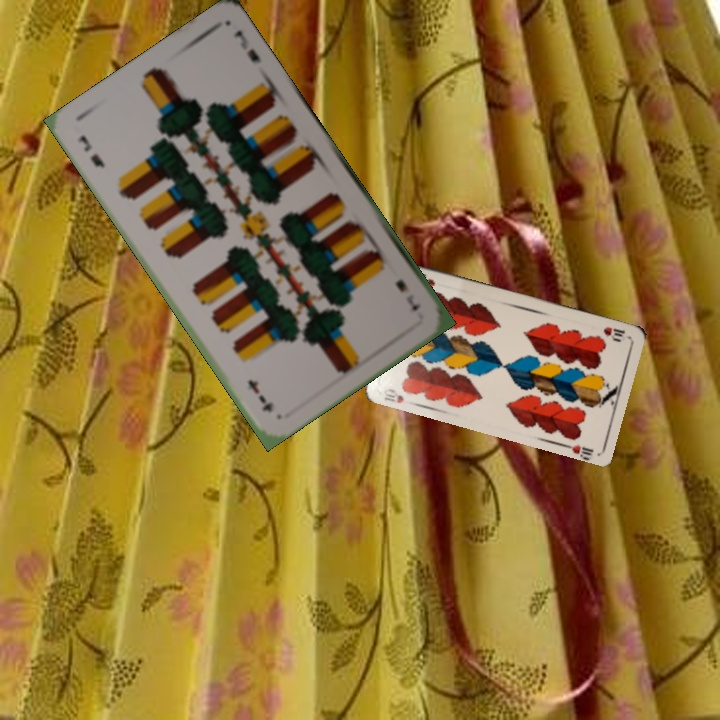E7: (74, 131, 108, 171), (391, 275, 423, 313)
H10: (380, 384, 407, 406), (599, 323, 627, 343)
